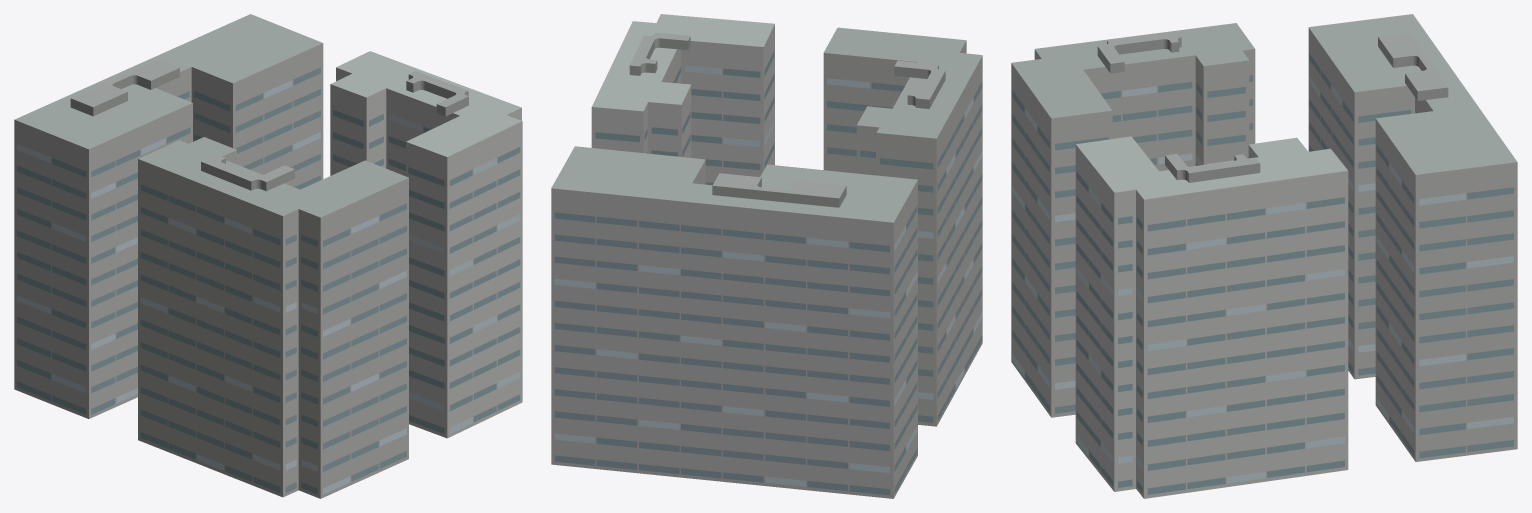
File: apt-a13170401.glb
3 views of the same model, side by side, from view 1: azimuth 30°, elevation 25°; view 2: azimuth 150°, elevation 25°; view 3: azimuth 270°, elevation 25° (orthographic). The views are drawn at different scales.
Visible parts, largest first — view 1: apt-a13170401; view 2: apt-a13170401; view 3: apt-a13170401.
Boxes of the visible parts, <box> form: apt-a13170401: <box>14,14,522,498</box>; apt-a13170401: <box>551,14,982,498</box>; apt-a13170401: <box>1011,14,1517,498</box>.
Size of the model in its own units: 104 by 76 by 113.
